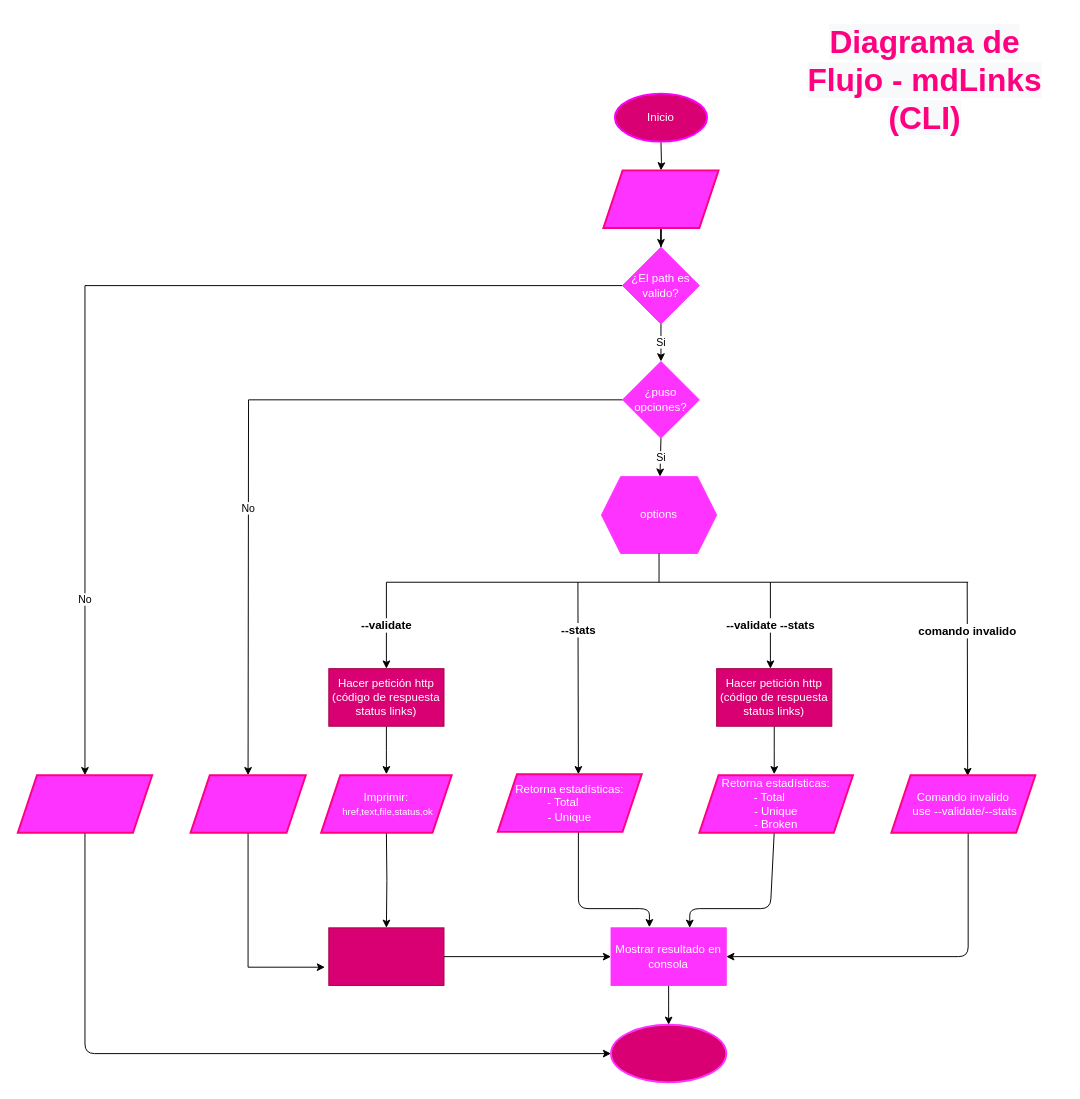
Image size: 1080x1099. Some labels were removed from this diagram. Each missing label, with the centre of its shape:
Fin: the point at 668,1053
Imprimir: - file - href - text: the point at 247,803
Inputs (path, options): the point at 660,198
Mensaje de error: La ruta no es valida: the point at 84,803
Truncar text a 50 caracteres: the point at 386,956
